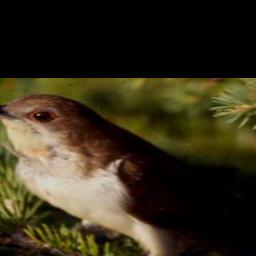Cuckoo: (0, 92, 256, 256)
